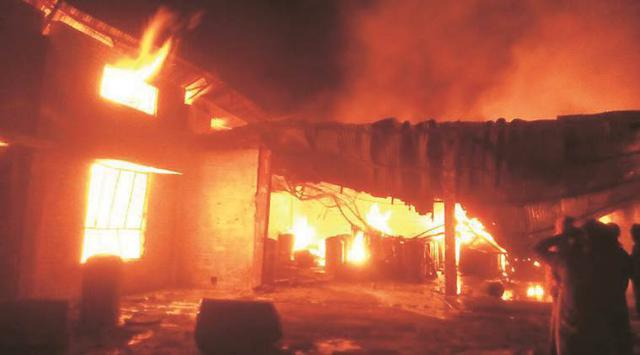fire: (75, 158, 145, 265), (100, 61, 158, 117), (137, 4, 175, 75), (428, 211, 478, 237), (360, 203, 386, 233), (344, 235, 368, 267), (182, 86, 200, 110), (208, 116, 232, 134), (526, 281, 544, 302), (290, 217, 300, 252), (314, 241, 322, 263)
smoke: (291, 0, 637, 121)
